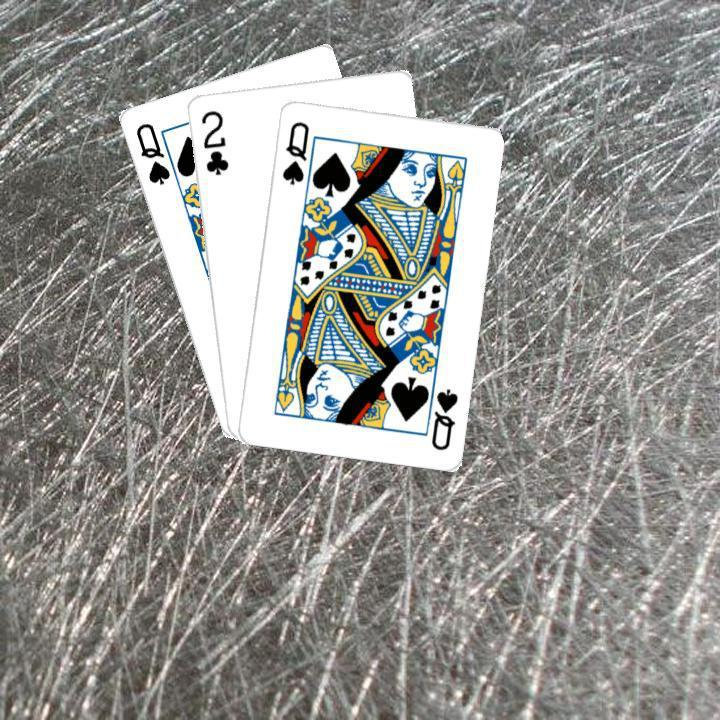2: (196, 105, 230, 177)
Q: (131, 118, 172, 187), (277, 116, 311, 187), (426, 384, 460, 452)
